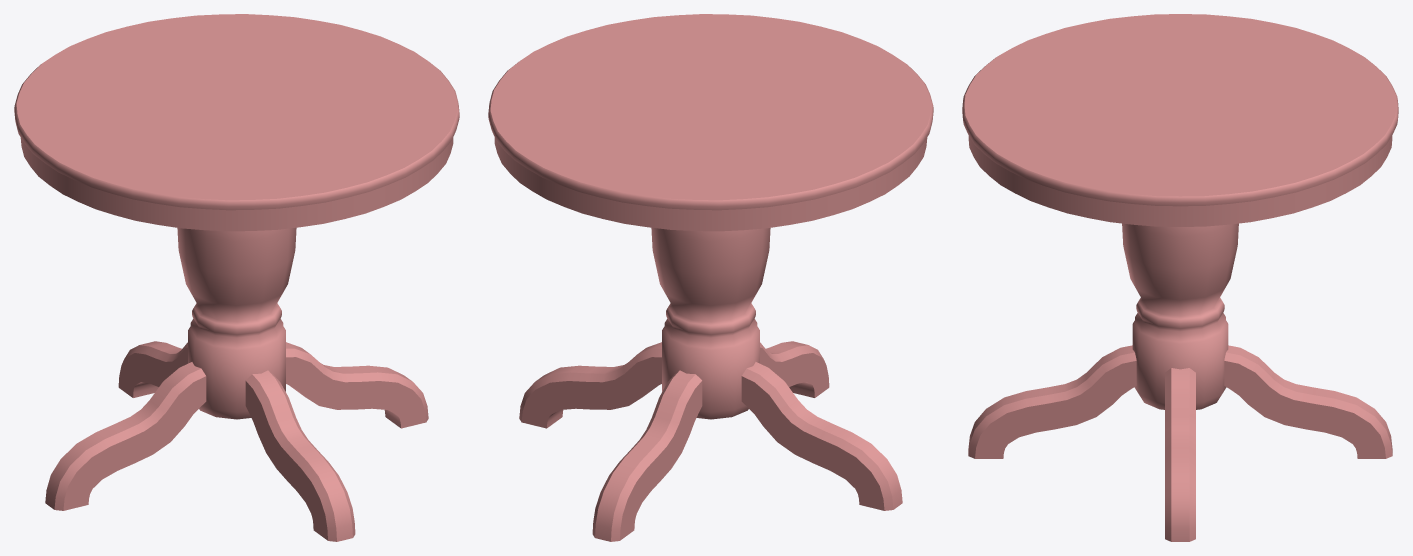
File: Table_low.FBX
The picture shows the model from 3 angles, left to right: view 1: azimuth 30°, elevation 25°; view 2: azimuth 150°, elevation 25°; view 3: azimuth 270°, elevation 25°; orthographic projection.
Visible parts, largest first — view 1: Top_low, Foots_low, Mid_low; view 2: Top_low, Foots_low, Mid_low; view 3: Top_low, Foots_low, Mid_low.
Part boxes in pixels (x1,y1,x2,y2): Top_low: (14, 14, 459, 231); Foots_low: (45, 341, 428, 541); Mid_low: (177, 227, 296, 419); Top_low: (488, 14, 933, 231); Foots_low: (519, 341, 902, 541); Mid_low: (651, 227, 770, 419); Top_low: (962, 14, 1398, 226); Foots_low: (968, 345, 1392, 541); Mid_low: (1122, 223, 1238, 409).
Bounding box in the file's own units: 84.59 × 74.22 × 84.59.
